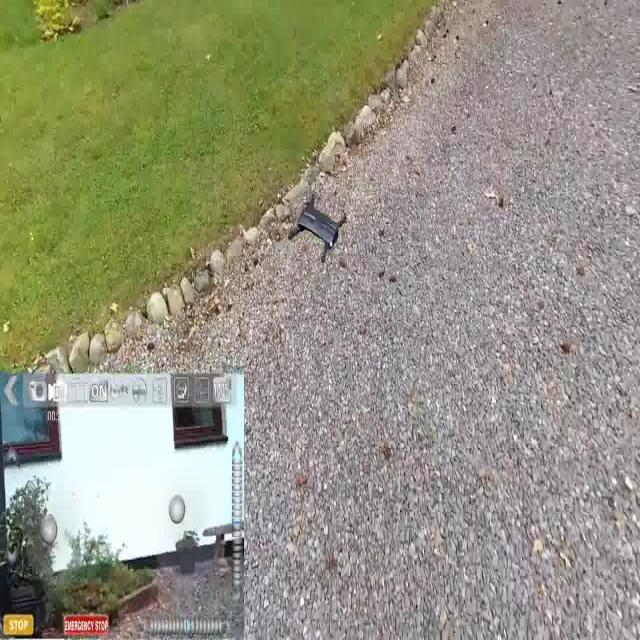drone: (285, 189, 351, 264)
